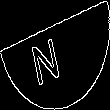N_N: (38, 25, 72, 85)
